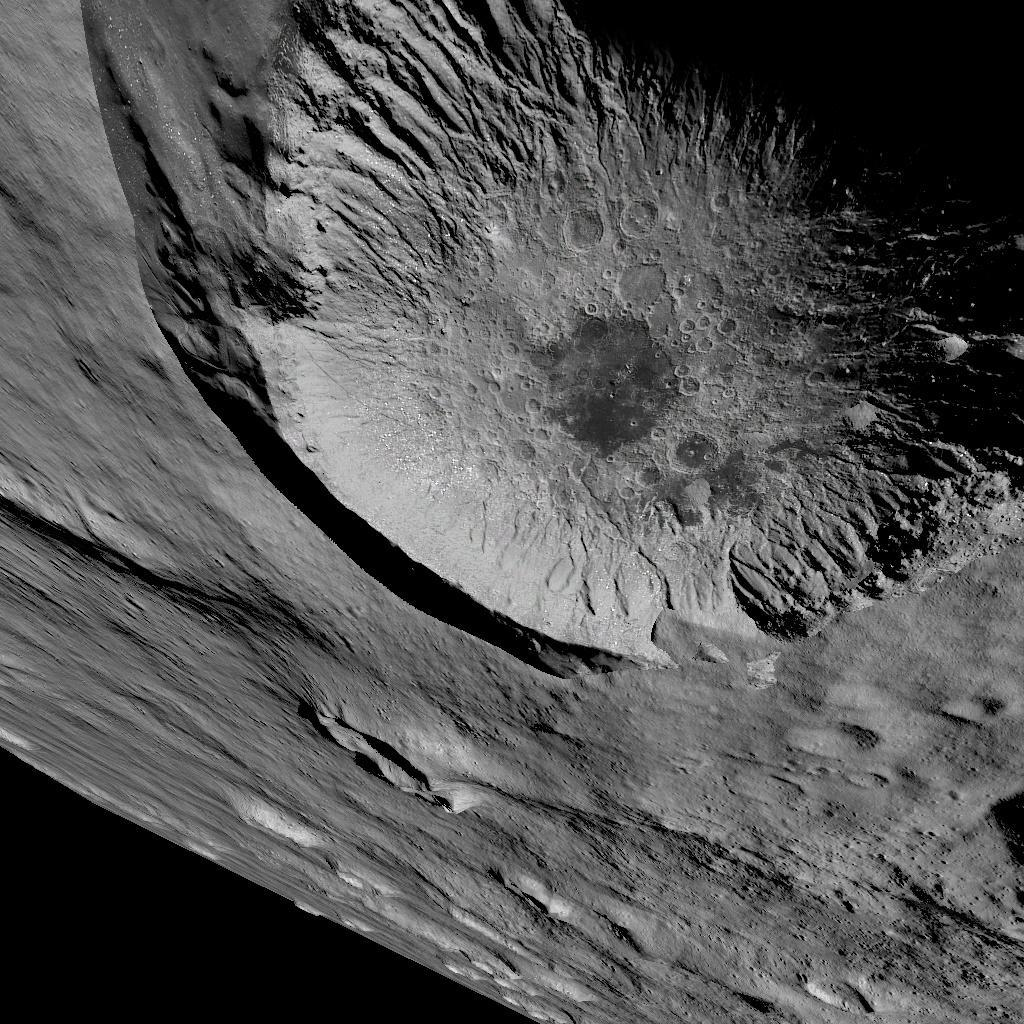Crater: (61, 0, 1024, 681), (270, 696, 448, 842)
Plan surface: (522, 707, 987, 1024)
